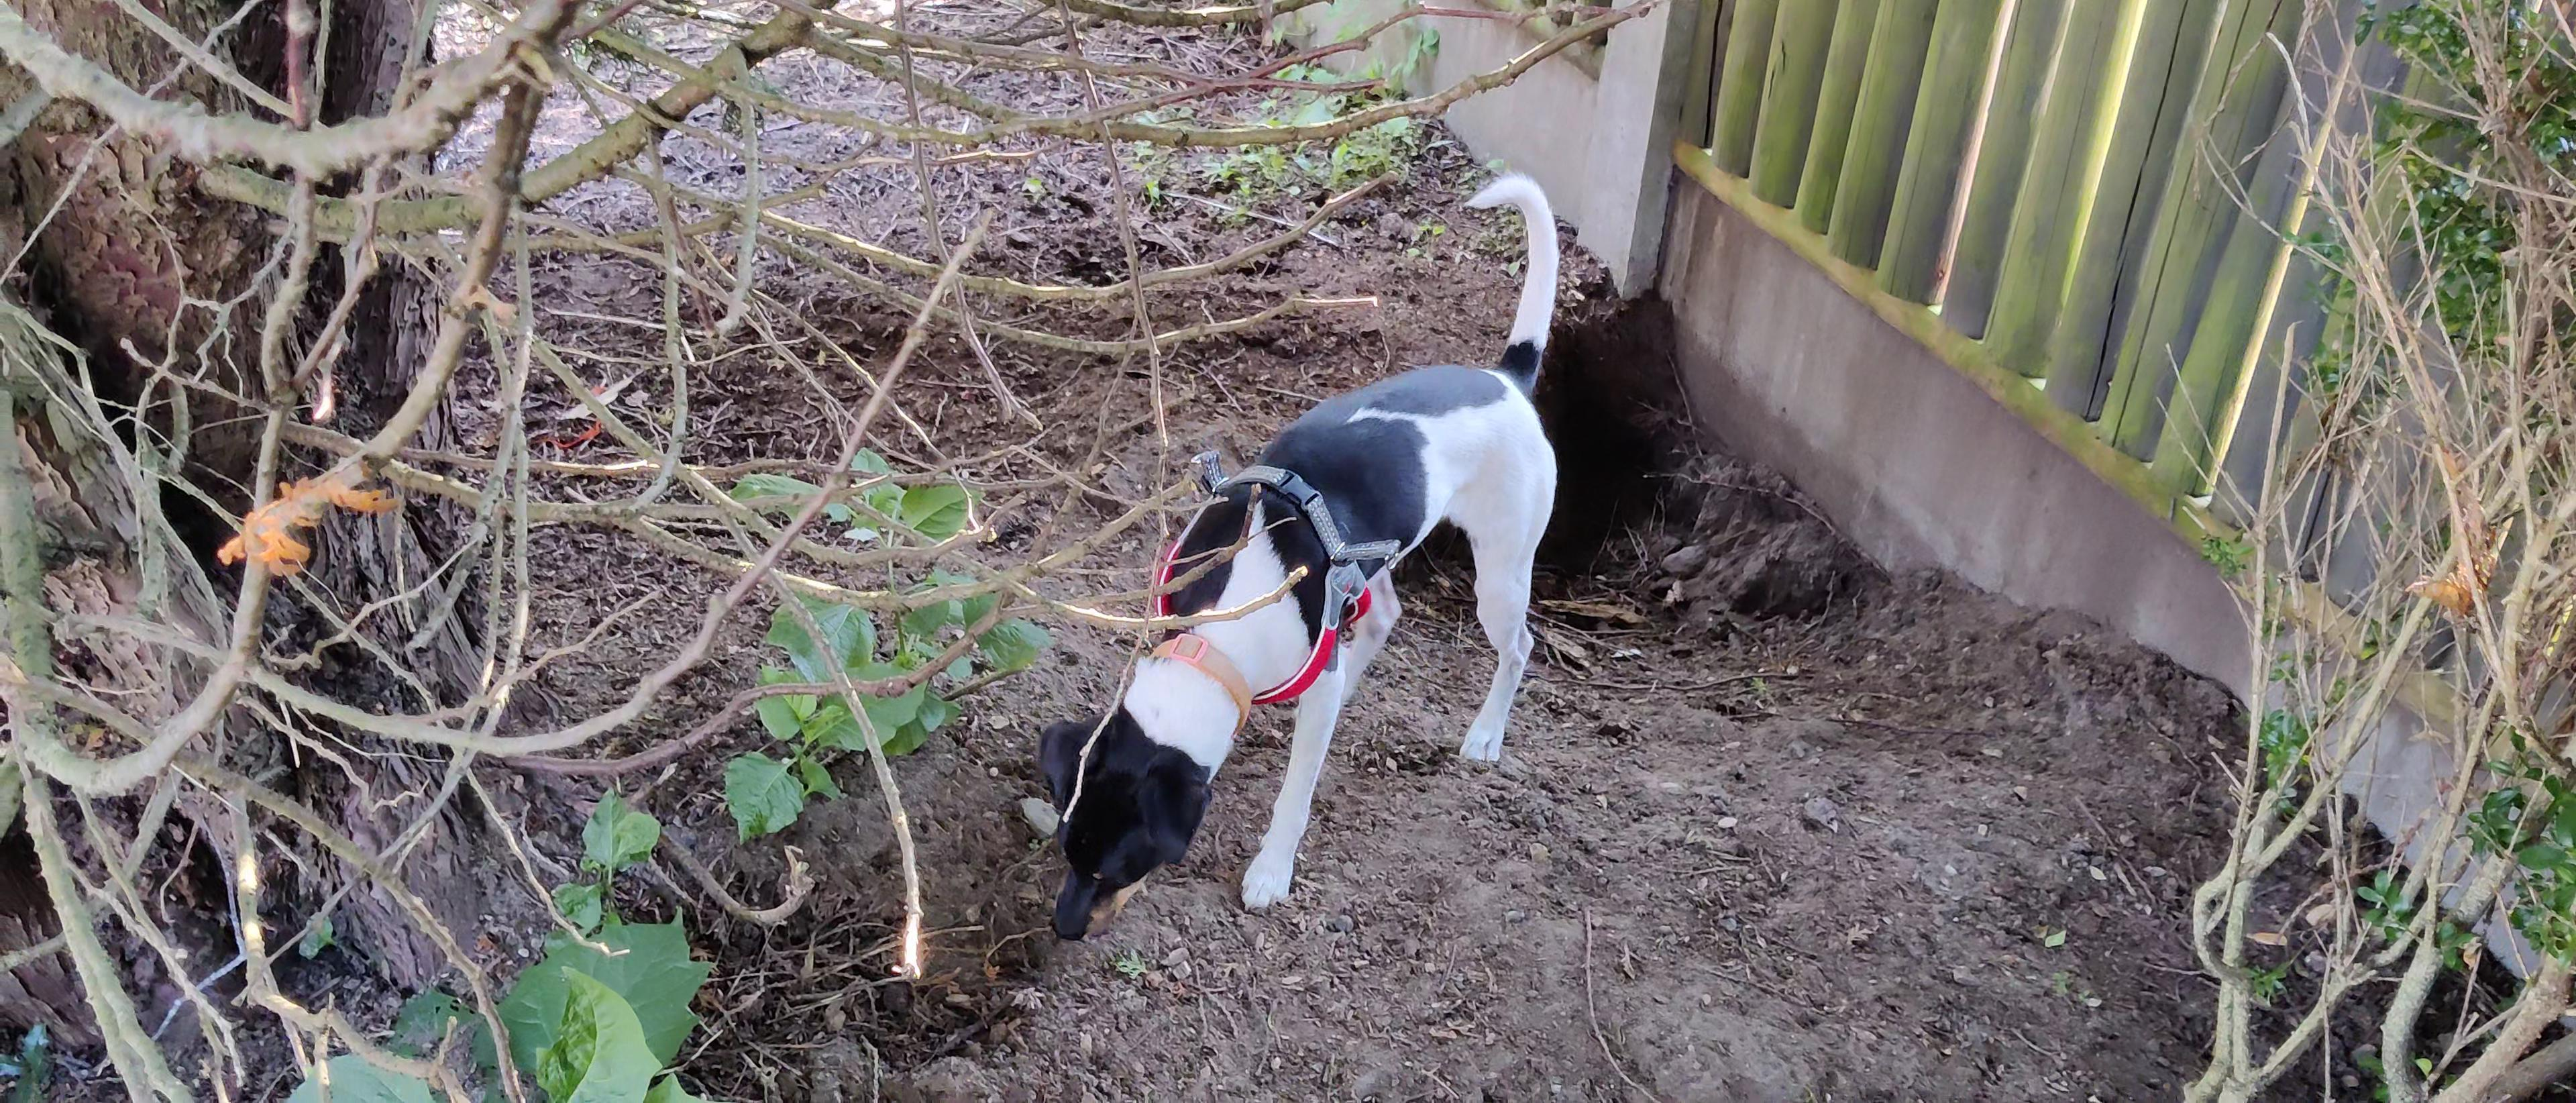Dog: (1020, 163, 1574, 960)
